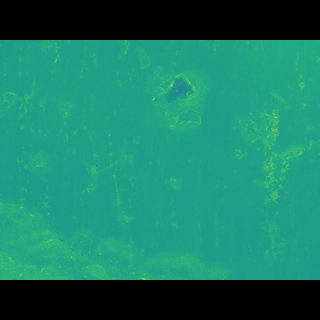Loch: (0, 186, 234, 252), (230, 120, 311, 240), (148, 91, 215, 138)
